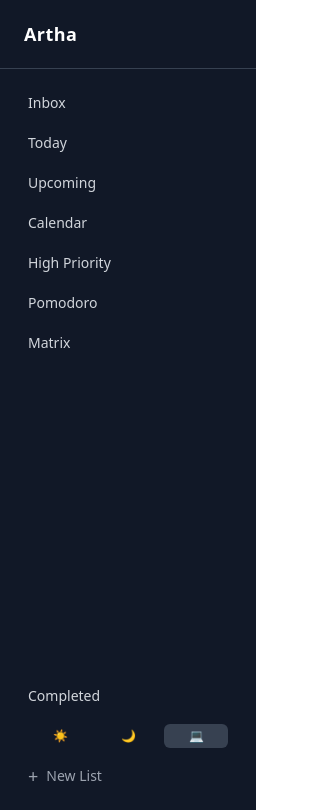
Test: Sidebar — New List button (AR-72) › dismisses input on Escape without creating a list
The image size is (320, 810).
Click the button with test id "new-list-button".
click(128, 776)  # box [12, 758, 244, 794]
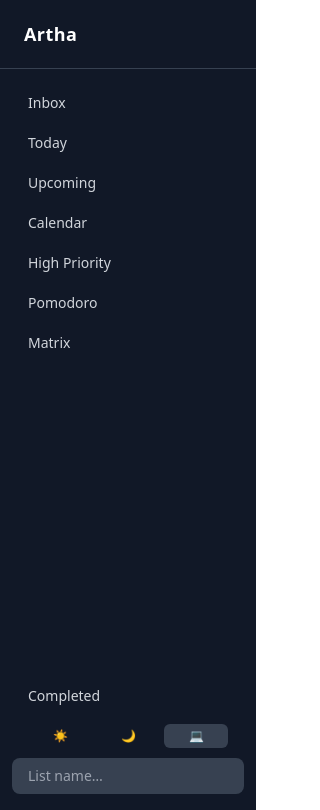
Press Escape
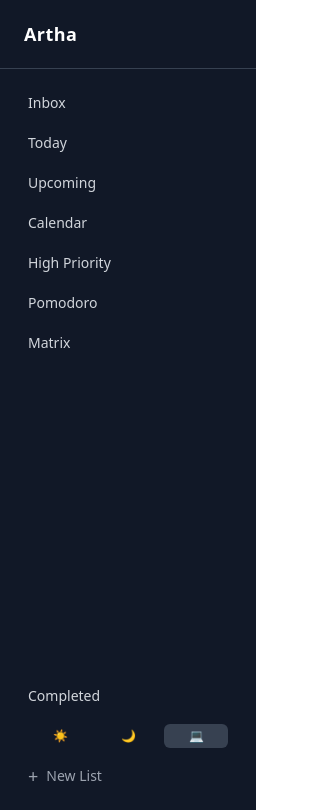
Now the button with test id "new-list-button" is shown, box [12, 758, 244, 794]
Now the field with test id "new-list-input" is gone
